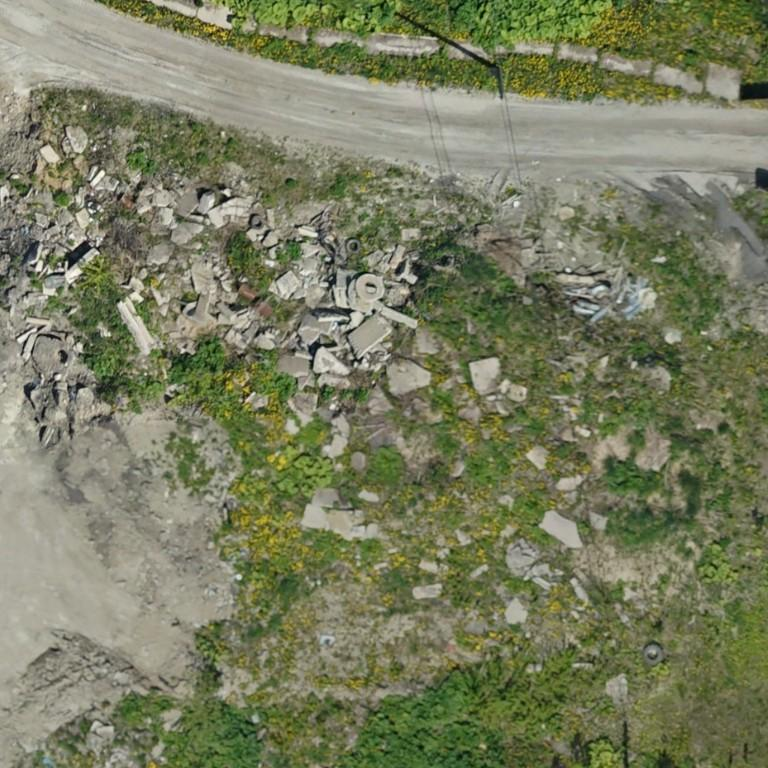hogweed: (335, 670, 505, 767), (166, 699, 260, 767), (166, 342, 227, 404)
